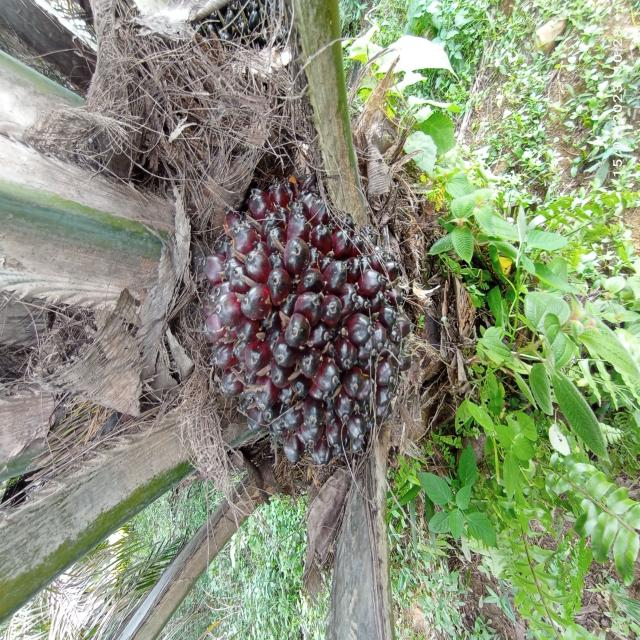fraksi 1: (159, 172, 425, 474)
